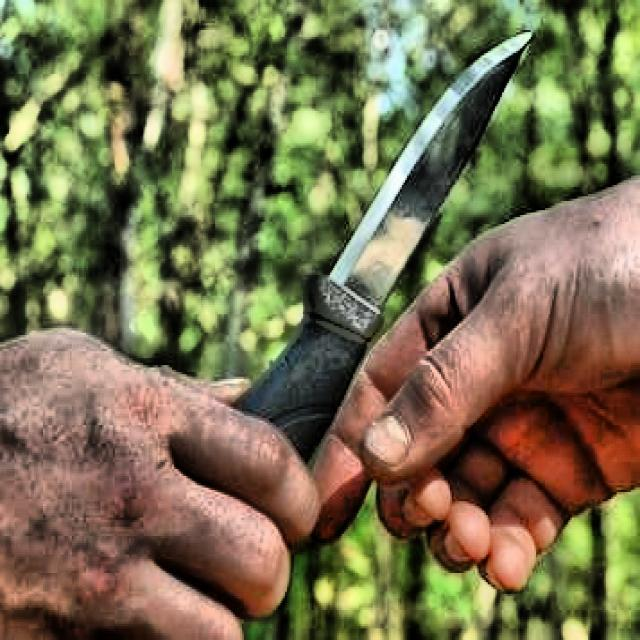knife: (161, 33, 531, 624)
